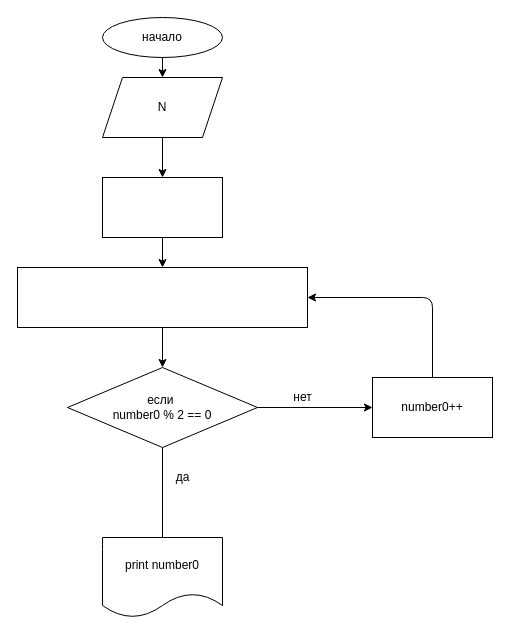
Some shapes in this 510 by 635 pixel diagram are drawn without their labels. The shapes that lost their labels are listed below. From the top down, each one's box as (x1, y1, x2, y2) in pixels, then its label:
(102, 176, 222, 238): N - (number) и number0 =1 # массив (1, N+1]
(16, 266, 308, 328): пока number0 < num + 1 # num + 1 чтобы N включалась в список
